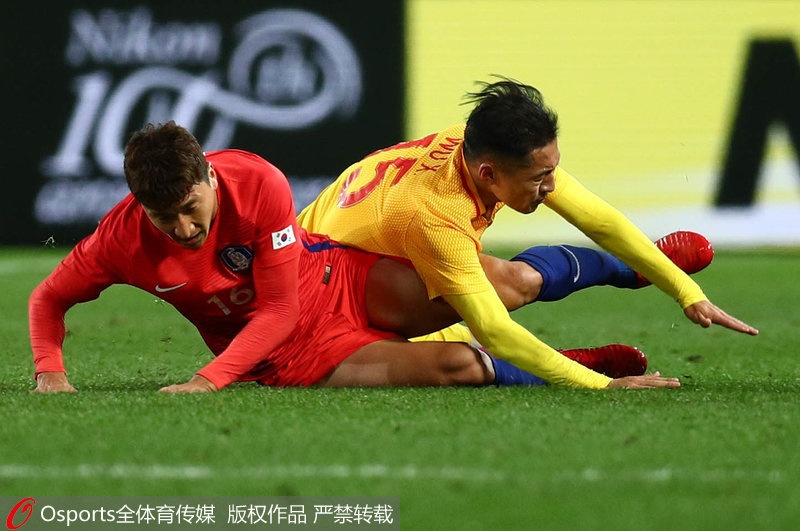falling: (233, 67, 741, 402)
